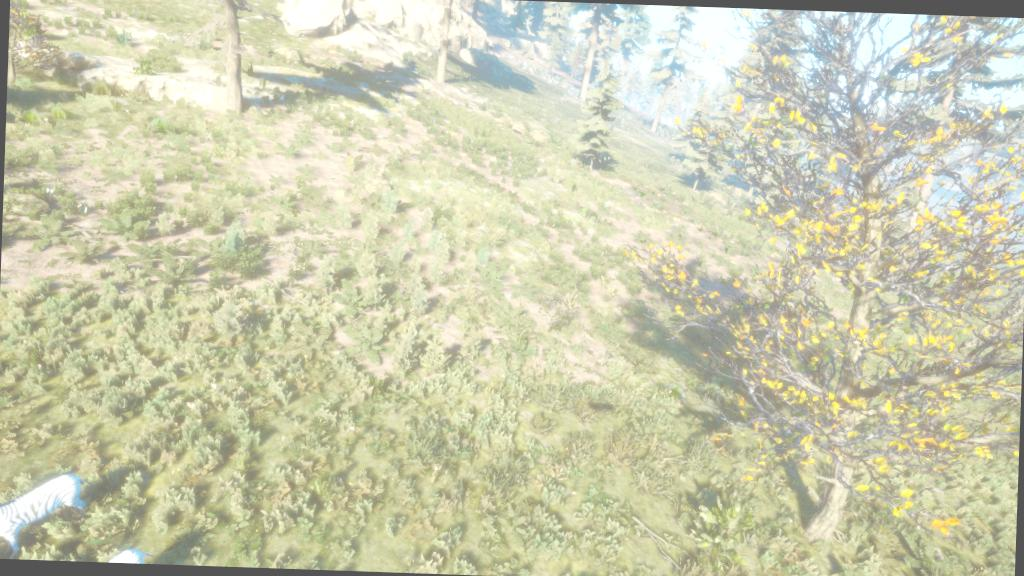zebra: (0, 466, 93, 561)
